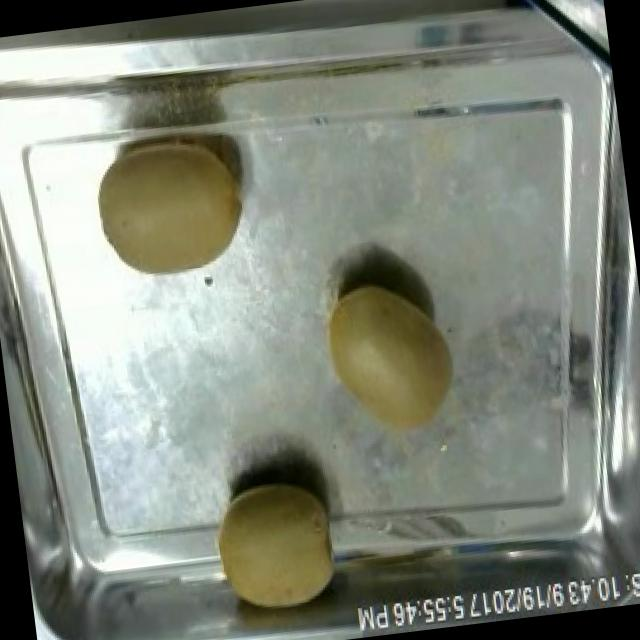Fruit: (309, 264, 469, 452), (84, 130, 258, 290), (203, 466, 352, 627)
